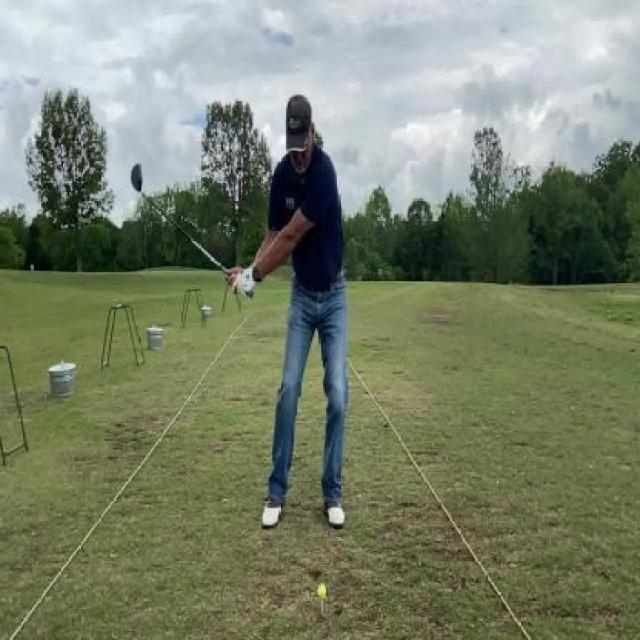club head: (129, 162, 146, 198)
